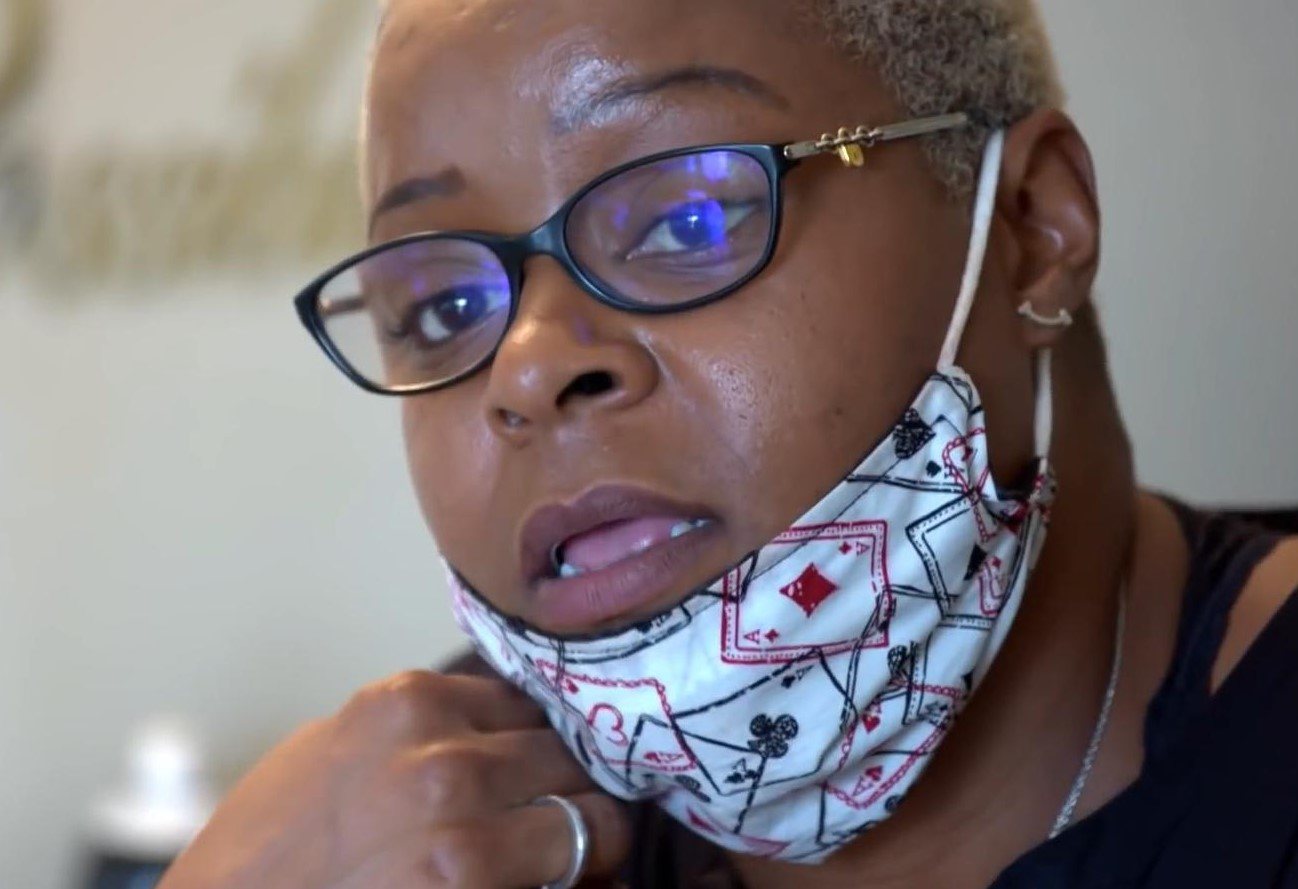with_incorrect_mask: (439, 46, 957, 617)
